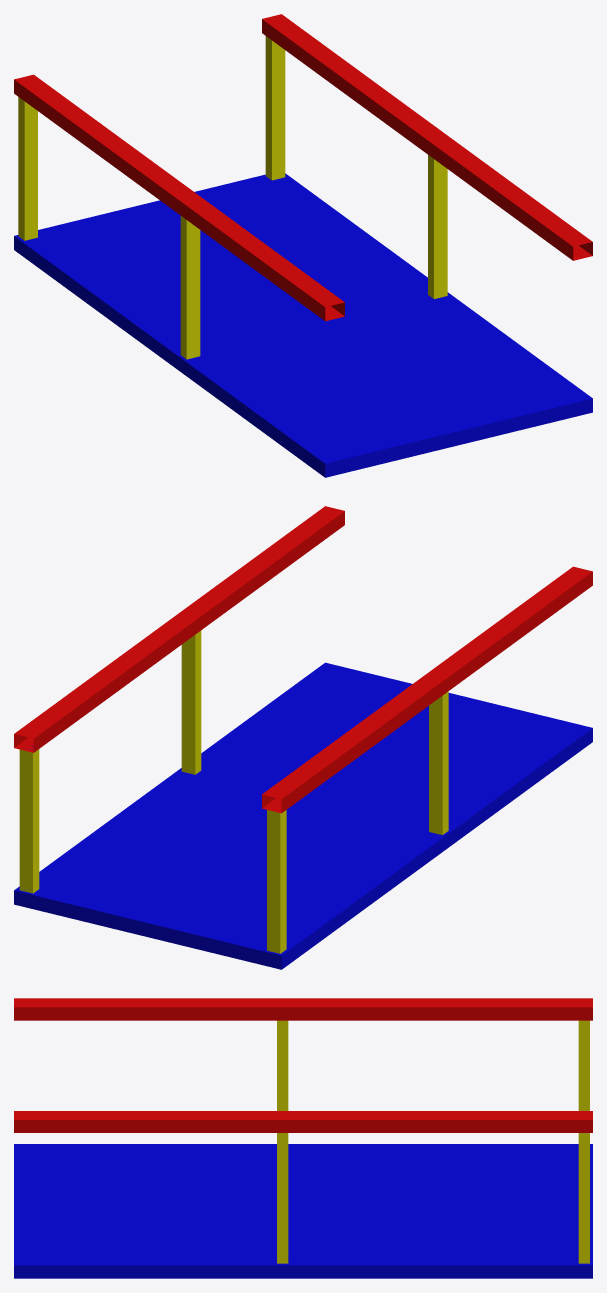
The model's file is SM0036_Scifi_HangarPlatform_Side_01.fbx.
3 renders of one model, top to bottom at view 1: azimuth 30°, elevation 25°; view 2: azimuth 150°, elevation 25°; view 3: azimuth 270°, elevation 25°, orthographic. The views are drawn at different scales.
Parts seen in each view (by area): view 1: SM0036_Scifi_HangarPlatform_Side_01; view 2: SM0036_Scifi_HangarPlatform_Side_01; view 3: SM0036_Scifi_HangarPlatform_Side_01.
Boxes of the visible parts, x1,y1,x2,y2 form: SM0036_Scifi_HangarPlatform_Side_01: (14,14,592,477); SM0036_Scifi_HangarPlatform_Side_01: (14,506,592,969); SM0036_Scifi_HangarPlatform_Side_01: (14,998,592,1278).
Size of the model in its own units: 199 by 121 by 400.
